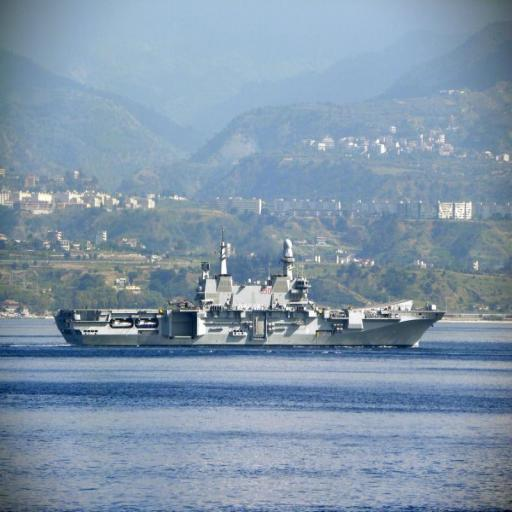Portanaves: (55, 233, 448, 357)
